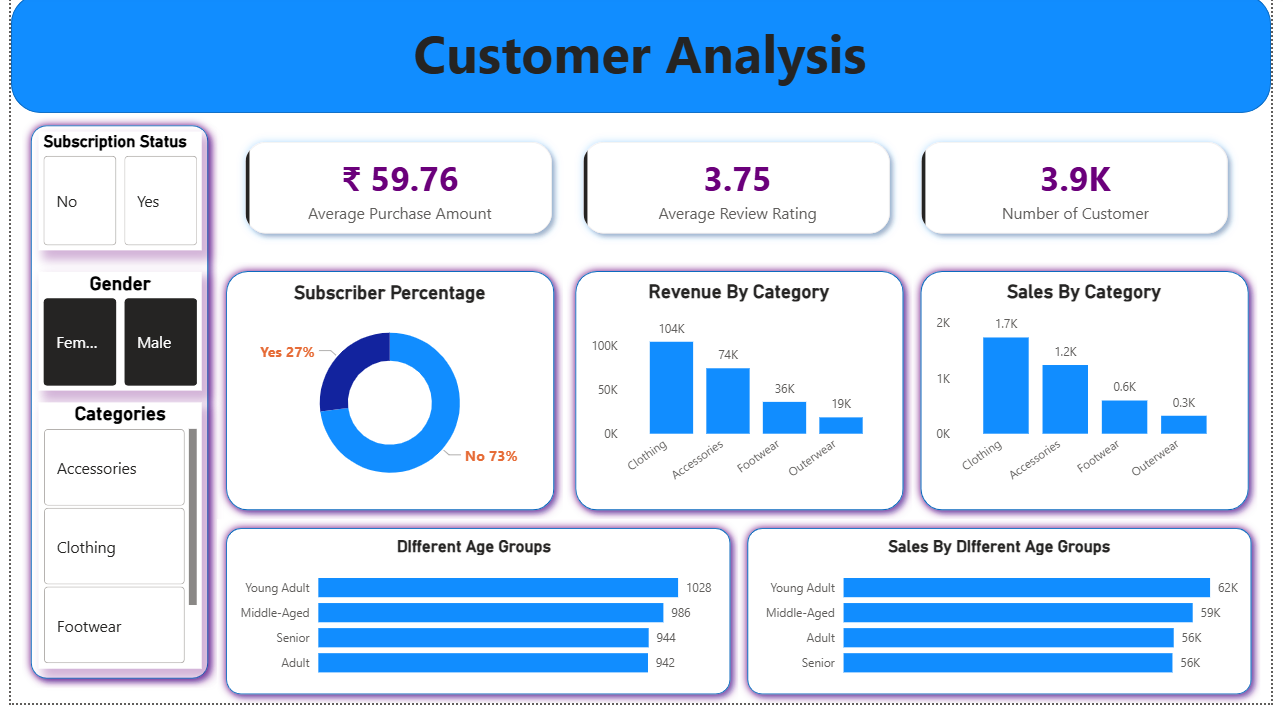

This screenshot's page, from the dashboard's own definition file:
{"tool":"powerbi","page":{"name":"Page 1","canvas":[1280,720],"ordinal":0},"visuals":[{"type":"cardVisual","fields":{"Data":["public customer.Average Purchase Amount","public customer.Average Review Rating","public customer.Number of Customer"]},"box":[209.5,120.9,1057.3,151.5],"z":0},{"type":"shape","box":[0,0,1279.7,120.9],"z":1000},{"type":"textbox","box":[11.3,17.7,1255.5,83.8],"z":2000},{"type":"shape","box":[209.5,272.4,351.4,261.1],"z":3000},{"type":"donutChart","title":"Subscriber Percentage","fields":{"Y":["CountNonNull(public customer.customer_id)"],"Category":["public customer.subscription_status"]},"box":[233.7,291.7,303,224],"z":4000},{"type":"shape","box":[915.5,272.4,351.4,261.1],"z":5000},{"type":"shape","box":[564.1,272.4,351.4,261.1],"z":6000},{"type":"clusteredColumnChart","title":"Revenue By Category","fields":{"Y":["Sum(public customer.purchase_amount)"],"Category":["public customer.category"]},"box":[583.5,290.1,311.1,224],"z":6001},{"type":"clusteredColumnChart","title":"Sales By Category","fields":{"Category":["public customer.category"],"Y":["CountNonNull(public customer.customer_id)"]},"box":[934.8,290.1,311.1,224],"z":6002},{"type":"shape","box":[11.3,124.1,198.2,580.2],"z":6003},{"type":"advancedSlicerVisual","title":"Subscription Status","fields":{"Values":["public customer.subscription_status"]},"box":[27.4,140.2,166,120.9],"z":6004},{"type":"advancedSlicerVisual","title":"Gender","fields":{"Values":["public customer.gender"]},"box":[27.4,282.1,166,120.9],"z":6005},{"type":"advancedSlicerVisual","title":"Categories","fields":{"Values":["public customer.category"]},"box":[27.4,414.2,166,270.8],"z":6006},{"type":"shape","box":[209.5,533.5,530.3,187],"z":6007},{"type":"clusteredBarChart","title":"DIfferent Age Groups","fields":{"Category":["public customer.age_group"],"Y":["CountNonNull(public customer.frequency_of_purchases)"]},"box":[222.4,549.6,496.4,154.7],"z":6008},{"type":"shape","box":[738.2,533.5,530.3,187],"z":6009},{"type":"clusteredBarChart","title":"Sales By DIfferent Age Groups","fields":{"Category":["public customer.age_group"],"Y":["Sum(public customer.purchase_amount)"]},"box":[755.9,549.6,496.4,154.7],"z":6010}]}

Visuals, with their boxes in screenshot pixels (x1, y1, x2, y2), scaled from the page's 1280x720 canvas onto the 1283x712 screenshot:
cardVisual - public customer.Average Purchase Amount x public customer.Average Review Rating: bbox=(210, 120, 1270, 269)
shape: bbox=(0, 0, 1282, 120)
textbox: bbox=(11, 18, 1270, 100)
shape: bbox=(210, 269, 562, 528)
"Subscriber Percentage" donutChart: bbox=(234, 288, 538, 510)
shape: bbox=(918, 269, 1270, 528)
shape: bbox=(565, 269, 918, 528)
"Revenue By Category" clusteredColumnChart: bbox=(585, 287, 897, 508)
"Sales By Category" clusteredColumnChart: bbox=(937, 287, 1249, 508)
shape: bbox=(11, 123, 210, 696)
"Subscription Status" advancedSlicerVisual: bbox=(27, 139, 194, 258)
"Gender" advancedSlicerVisual: bbox=(27, 279, 194, 399)
"Categories" advancedSlicerVisual: bbox=(27, 410, 194, 677)
shape: bbox=(210, 528, 742, 711)
"DIfferent Age Groups" clusteredBarChart: bbox=(223, 543, 720, 696)
shape: bbox=(740, 528, 1271, 711)
"Sales By DIfferent Age Groups" clusteredBarChart: bbox=(758, 543, 1255, 696)
